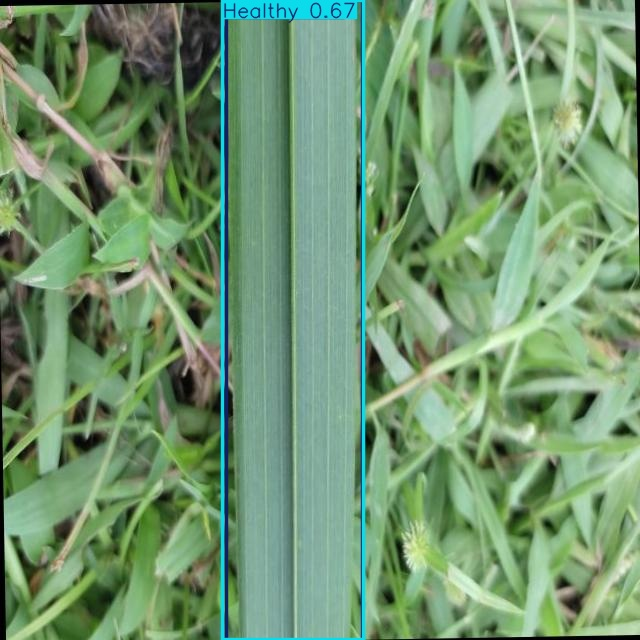Healthy: (222, 1, 363, 639)
nitrogen: (226, 1, 362, 640)
